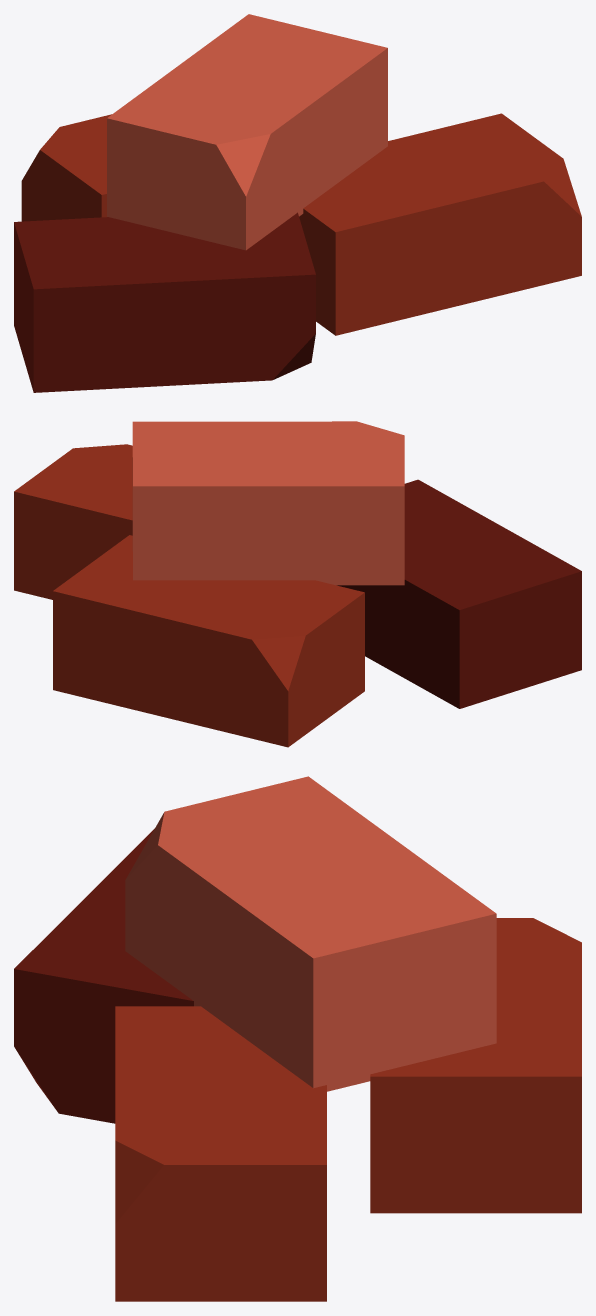
File: briks.FBX
3 views of the same model, one above another, from view 1: azimuth 30°, elevation 25°; view 2: azimuth 150°, elevation 25°; view 3: azimuth 270°, elevation 25° (orthographic). The views are drawn at different scales.
Parts seen in each view (by area): view 1: Briks; view 2: Briks; view 3: Briks.
Part boxes in pixels (box(x1,y1,x2,y2)): Briks: box(14, 14, 581, 392); Briks: box(14, 421, 581, 747); Briks: box(14, 776, 581, 1301).
Size of the model in its own units: 11.58 by 4.21 by 8.13.
